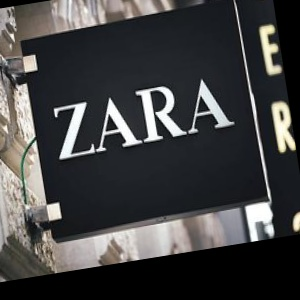zara: (180, 17, 283, 130)
